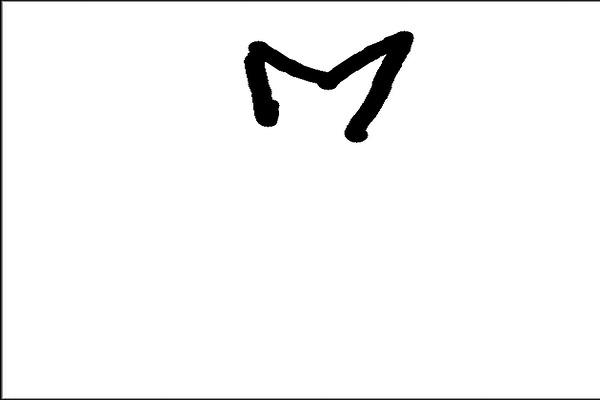M: (241, 33, 415, 141)
